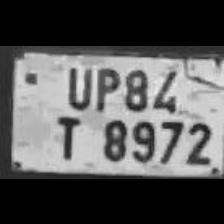2: (182, 115, 212, 165)
4: (150, 64, 182, 112)
7: (156, 113, 183, 163)
8: (96, 114, 128, 162), (119, 63, 149, 111)
9: (128, 114, 154, 162)
P: (92, 62, 120, 110)
T: (50, 110, 86, 160)
U: (62, 64, 92, 106)
